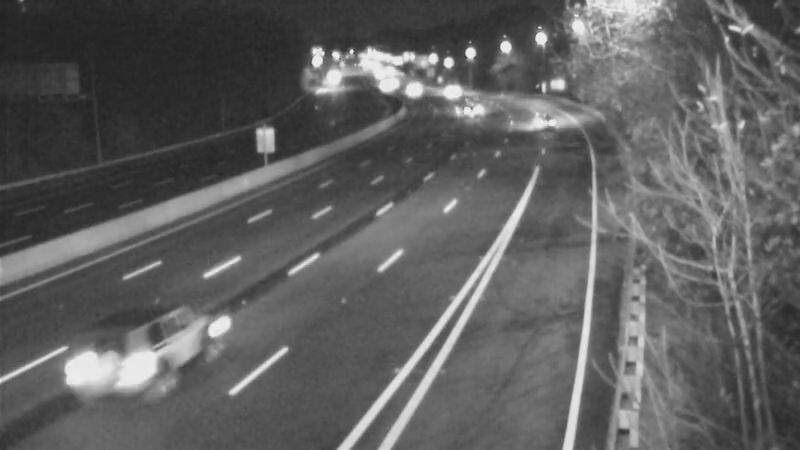vehicle: (55, 316, 165, 426), (389, 63, 439, 113), (424, 69, 474, 119), (436, 83, 486, 133), (514, 92, 564, 142)
